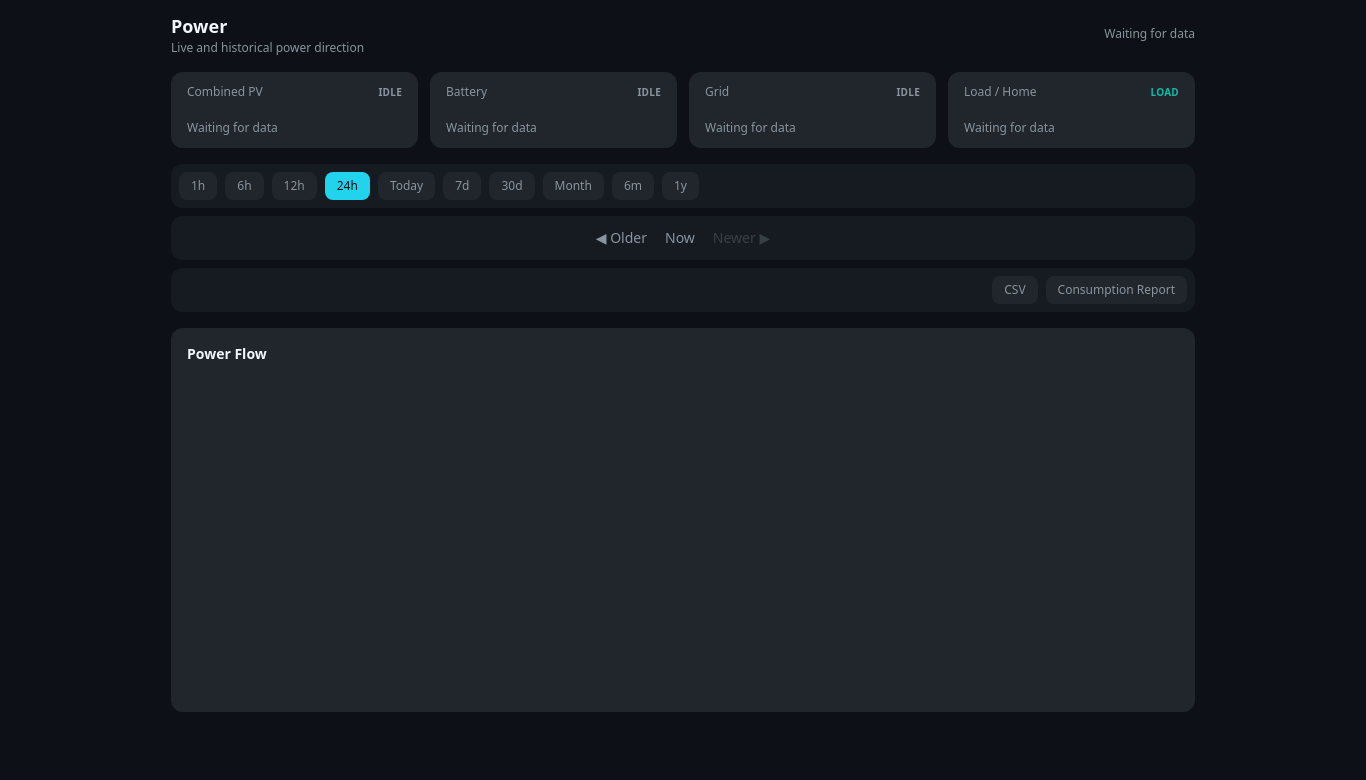
Test: <PowerPage/> — spike removal, cost overlay, PDF export › Consumption Report export › downloads the report as a file when window.open returns null (popup blocked)
Expected: the button "CSV" is enabled, [992,276,1038,304]
Click the button "Consumption Report" at [1116, 290], box [1046,276,1187,304]
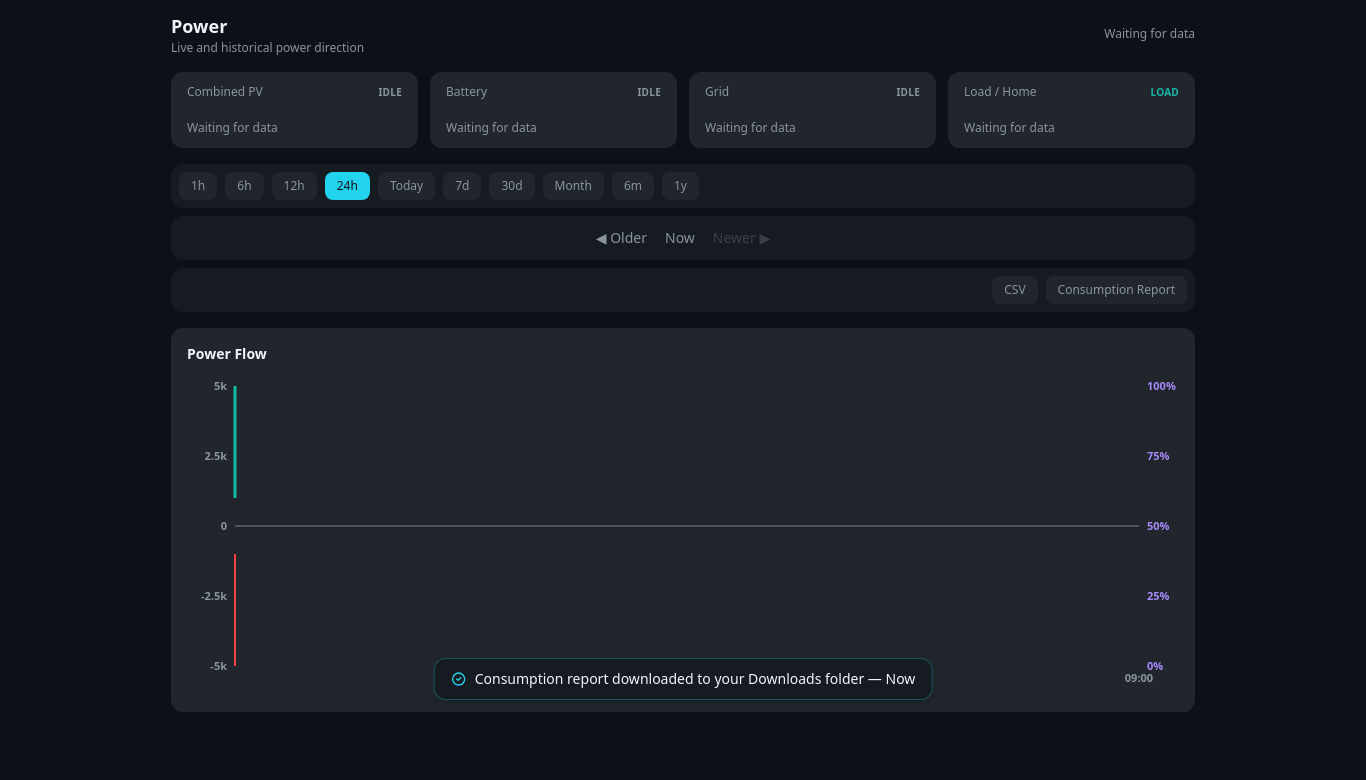
Result: the text "Consumption report downloaded to your Downloads folder — Now" is shown at [434,658,932,700]
